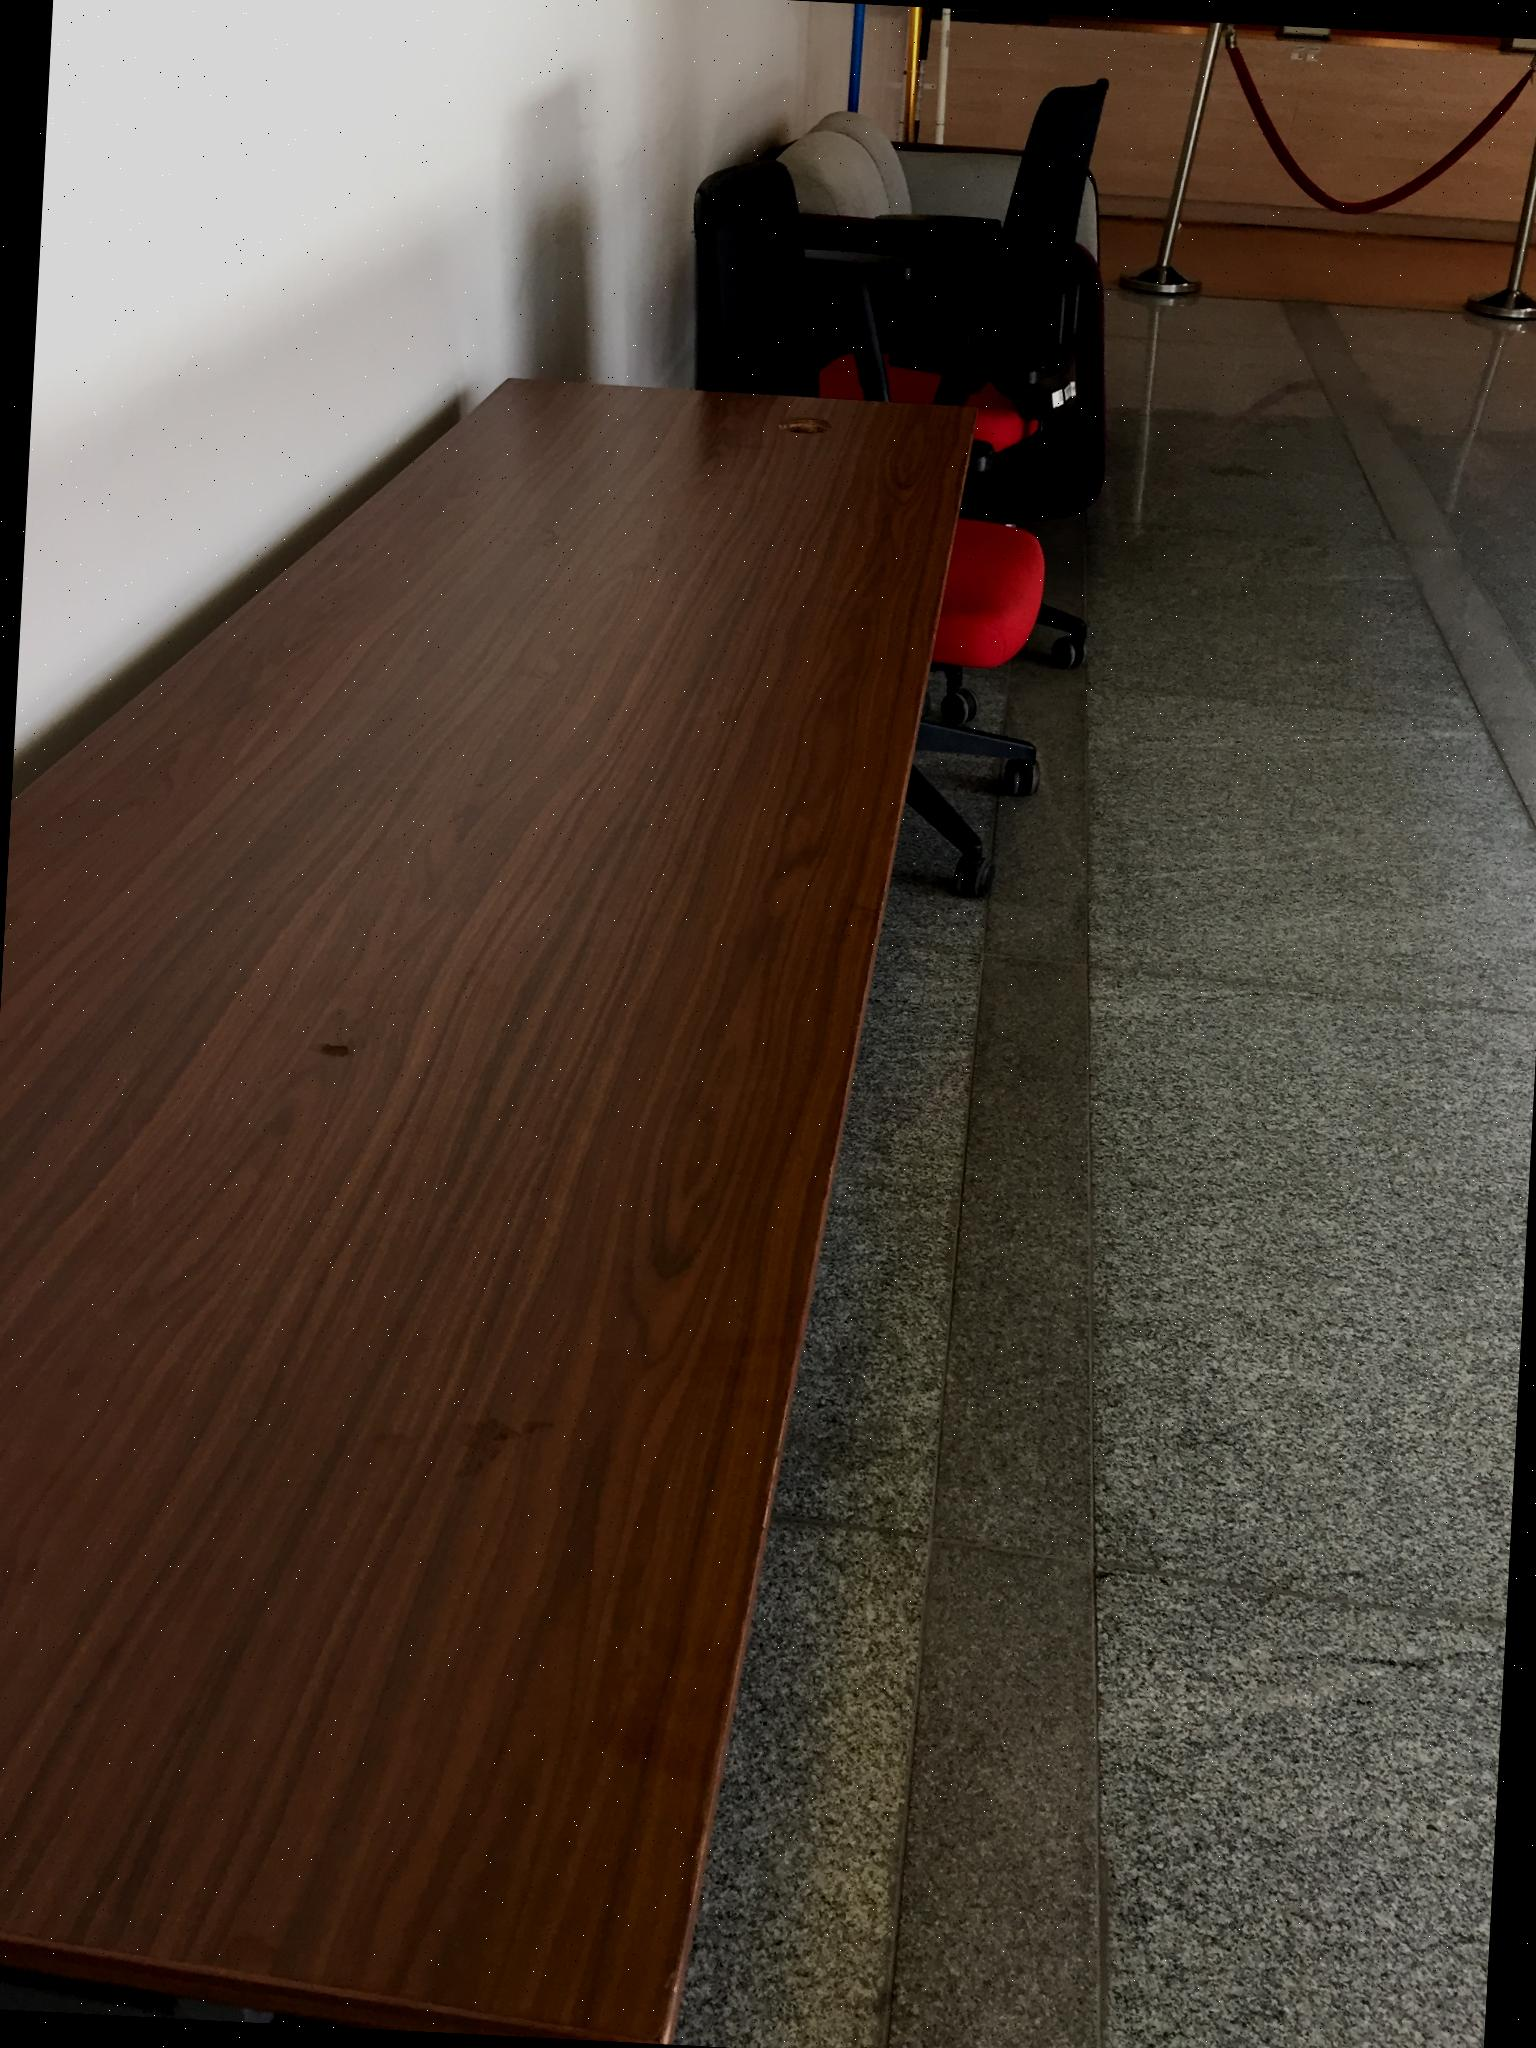chair: (655, 153, 1071, 900), (715, 31, 1142, 613)
